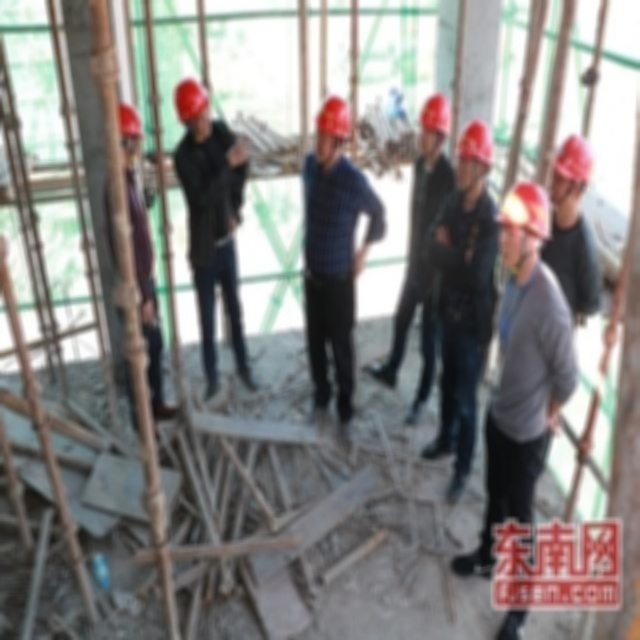Con_Casco: (500, 185, 548, 273)
Sin_Chaleco: (299, 164, 365, 280)
